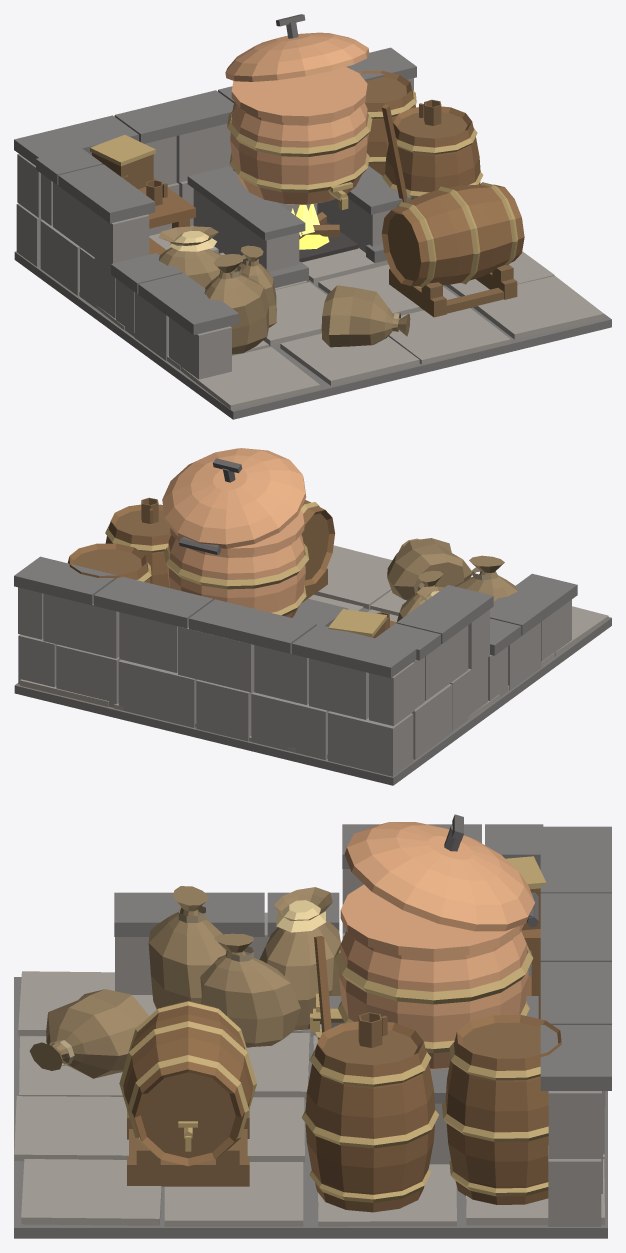
The model's file is brewery.glb.
3 views of the same model, one above another, from view 1: azimuth 30°, elevation 25°; view 2: azimuth 150°, elevation 25°; view 3: azimuth 270°, elevation 25° (orthographic). The views are drawn at different scales.
Visible parts, largest first — view 1: floor, wall_back, vat, wall_left, hearth, barrel_3, wall_left_low, barrel_2, lid, sack_3, sack_1, barrel_cradle (+11 smaller); view 2: wall_back, floor, wall_left, lid, wall_left_low, vat, sack_3, barrel_2, barrel_1, barrel_3, vat_bands, sack_1 (+3 smaller); view 3: floor, wall_back, vat, barrel_2, barrel_1, barrel_3, lid, wall_left_low, sack_3, sack_4, sack_1, sack_2 (+12 smaller).
Part boxes in pixels (x1,y1,x2,y2): floor: (14,225,611,419); wall_back: (14,47,416,266); vat: (230,67,368,204); wall_left: (36,148,155,318); hearth: (187,166,411,287); barrel_3: (381,184,524,286); wall_left_low: (111,253,238,379); barrel_2: (385,106,480,199); lid: (225,32,369,81); sack_3: (321,285,410,347); sack_1: (204,254,268,354); barrel_cradle: (389,265,517,317); wall_back: (14,556,416,776); floor: (14,545,611,785); wall_left: (375,585,493,759); lid: (162,448,306,548); wall_left_low: (488,573,577,700); vat: (167,510,305,617); sack_3: (387,538,472,600); barrel_2: (105,504,170,587); barrel_1: (67,543,151,583); barrel_3: (301,500,335,585); vat_bands: (164,543,308,615); sack_1: (454,555,517,601); floor: (14,971,607,1238); wall_back: (540,826,611,1226); vat: (338,884,528,1069); barrel_2: (305,1021,435,1212); barrel_1: (445,1014,561,1204); barrel_3: (123,1000,253,1166); lid: (344,822,534,931); wall_left_low: (114,892,339,994); sack_3: (29,989,149,1078); sack_4: (200,933,300,1047); sack_1: (148,886,226,1009); sack_2: (259,887,340,1030).
Size of what is drawn, in the model's own units: 3.02 by 1.74 by 3.02.
